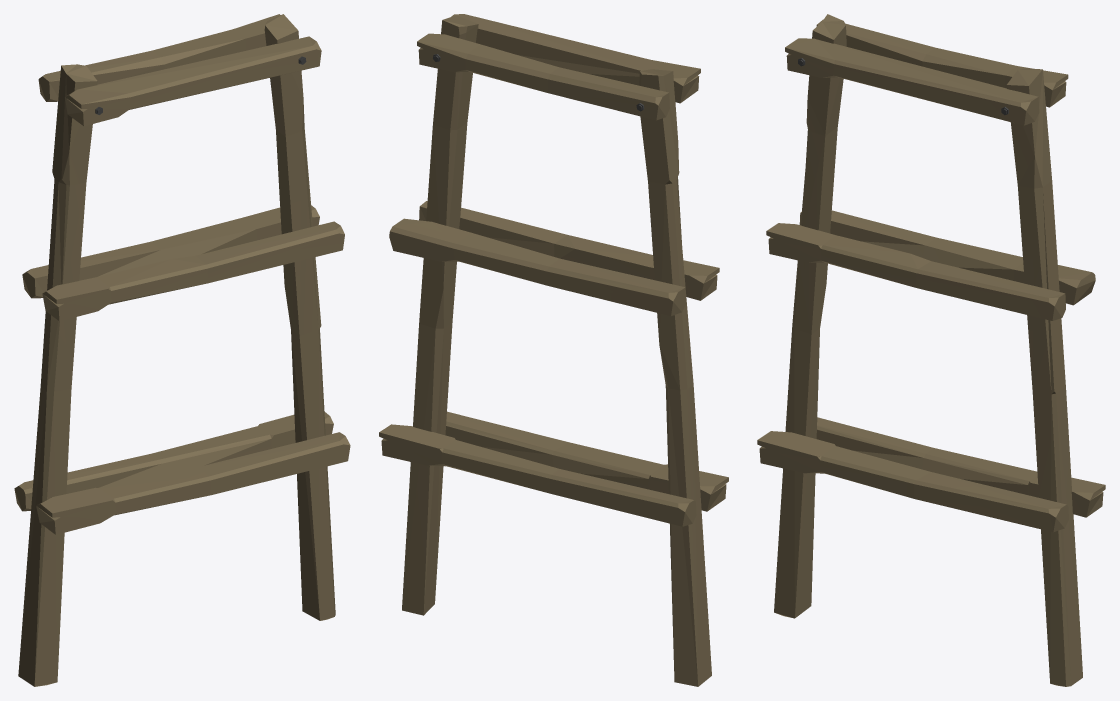
File: bridge_support.fbx
The picture shows the model from 3 angles, left to right: view 1: azimuth 30°, elevation 25°; view 2: azimuth 150°, elevation 25°; view 3: azimuth 330°, elevation 25°; orthographic projection.
Visible parts, largest first — view 1: bridge_support; view 2: bridge_support; view 3: bridge_support.
Part boxes in pixels (x1,y1,x2,y2): bridge_support: [14, 14, 350, 686]; bridge_support: [379, 14, 728, 686]; bridge_support: [757, 14, 1105, 686].
Bounding box in the file's own units: 297 × 549 × 77.15.
